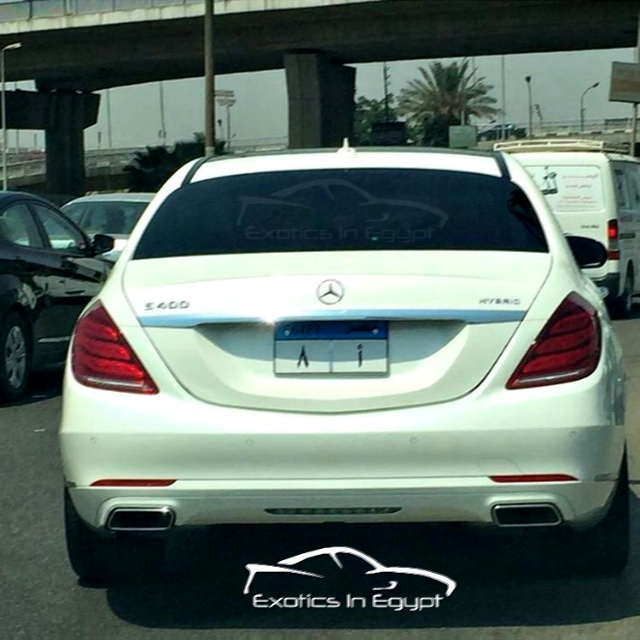License Plate: (270, 317, 391, 382)
